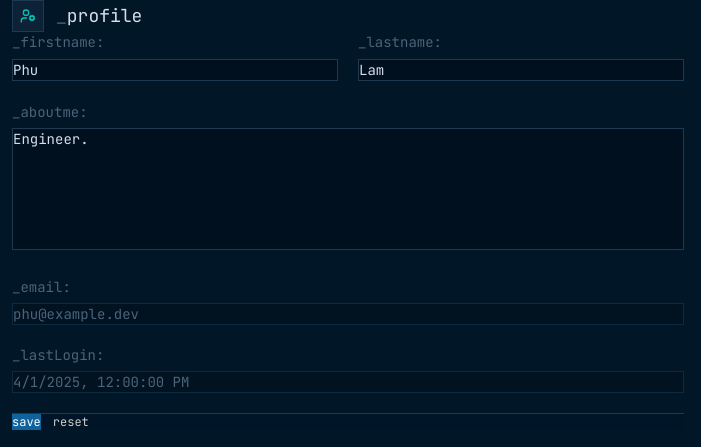
Test case: AdminProfilePage › shows an error when saving fails, and "reset" restores the saved values and clears the error
expect the heading "_profile" is shown: met, box [56,2,142,30]
In the field labelled "_firstname:": (175, 70) [12,59,338,81], type "XYZ"
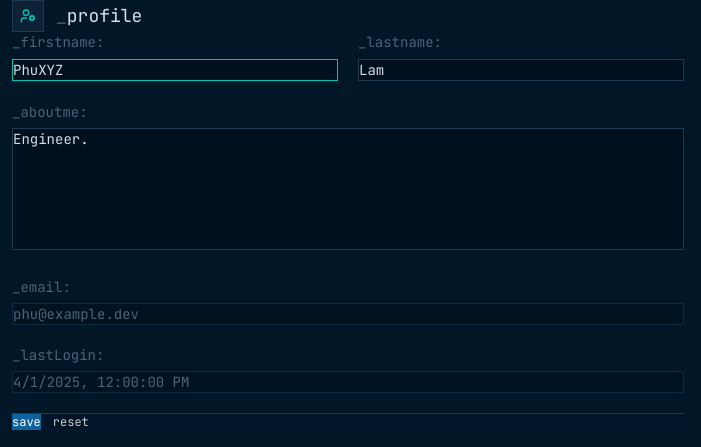
Click the button "save": (26, 422) [12,414,41,430]
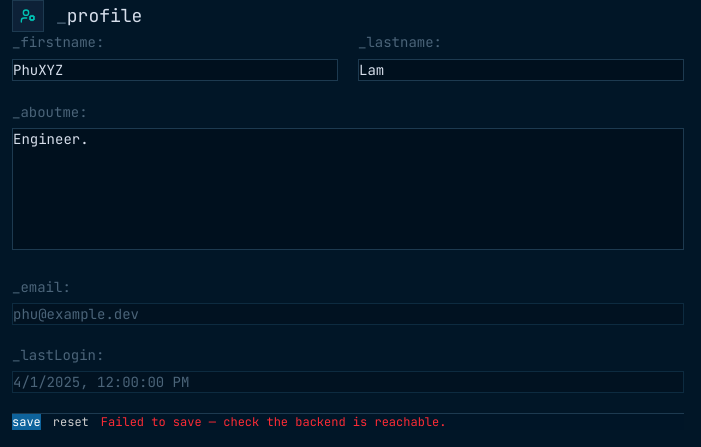
expect the text "Failed to save — check the backend is reachable." is shown: met, box [101,414,446,430]
Click the button "reset": (71, 422) [53,414,89,430]
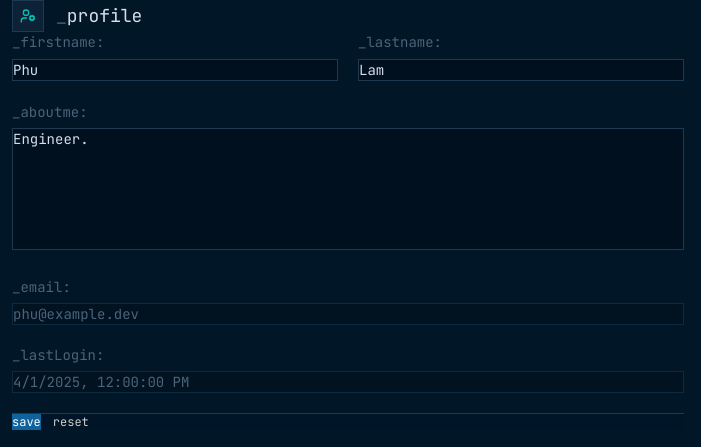
expect the field labelled "_firstname:" holds "Phu": met, box [12,59,338,81]
expect the text "Failed to save — check the backend is reachable." is gone: met
